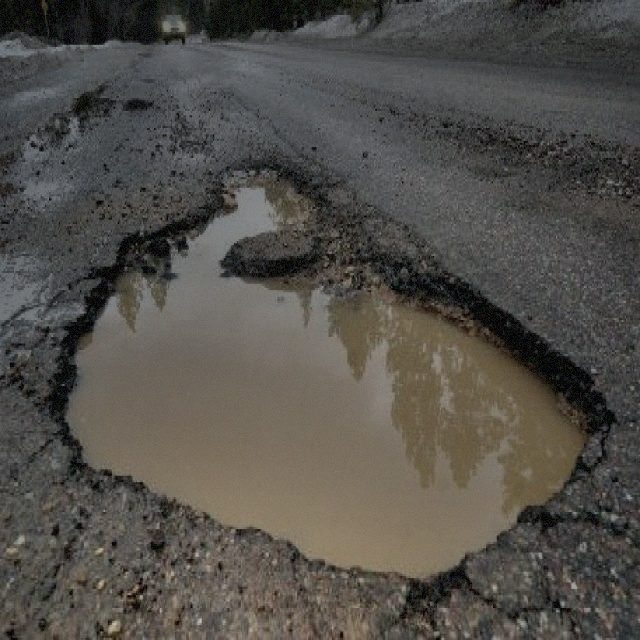pothole: (45, 154, 616, 591)
